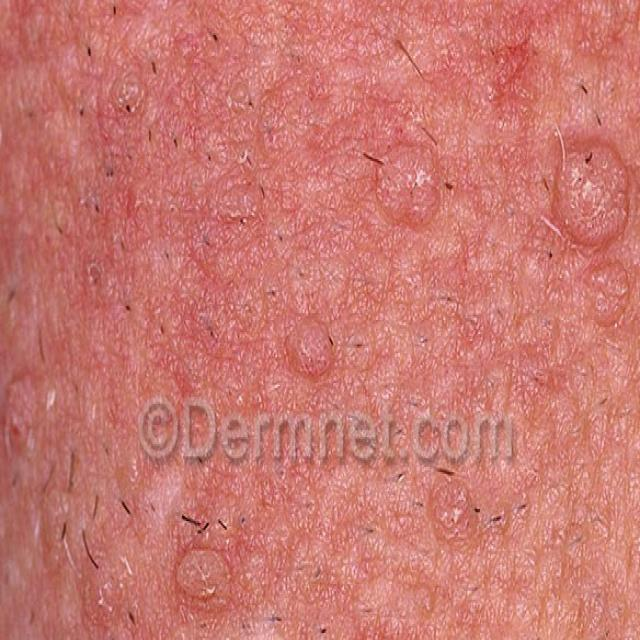Warts: (538, 138, 640, 315), (353, 125, 455, 238), (0, 533, 90, 640), (183, 528, 264, 640), (0, 358, 73, 473), (432, 470, 510, 555), (271, 313, 364, 372)
